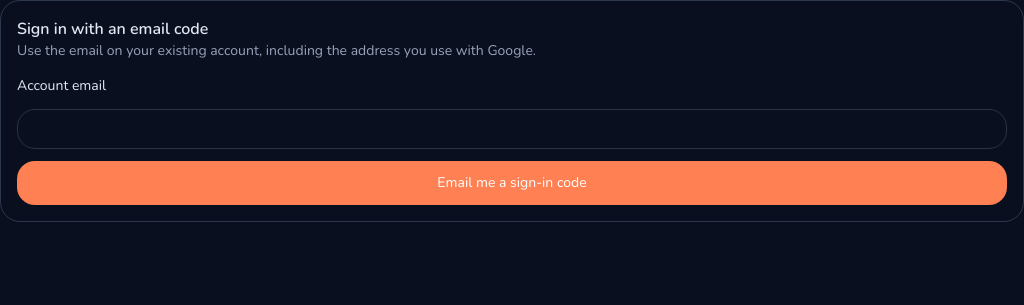
Test: Email code sign-in › keeps the email form available when delivery fails
Type "existing@example.test" into the field with id "code-email" at (512, 129), box [17,109,1007,149]
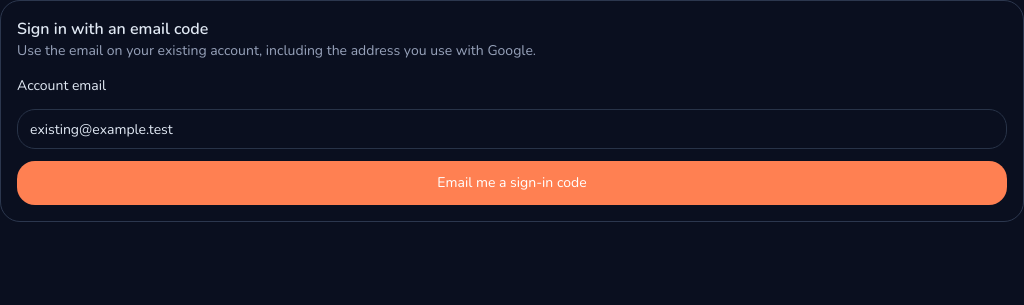
Submit the form, box [17,73,1007,205]
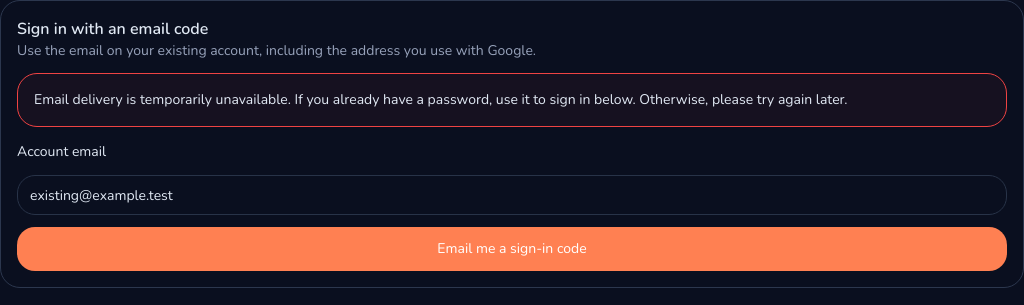
Check: the text "Email delivery is temporarily unavailable" is shown, box [34,90,848,109]
